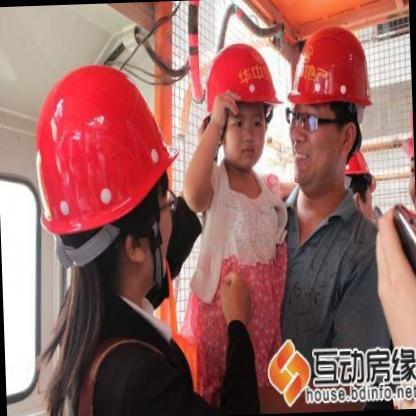capacete: (32, 62, 185, 289), (284, 23, 376, 191), (203, 40, 287, 170)
sem_colete_refletivo: (266, 174, 412, 382), (30, 275, 222, 415), (184, 156, 286, 315)
